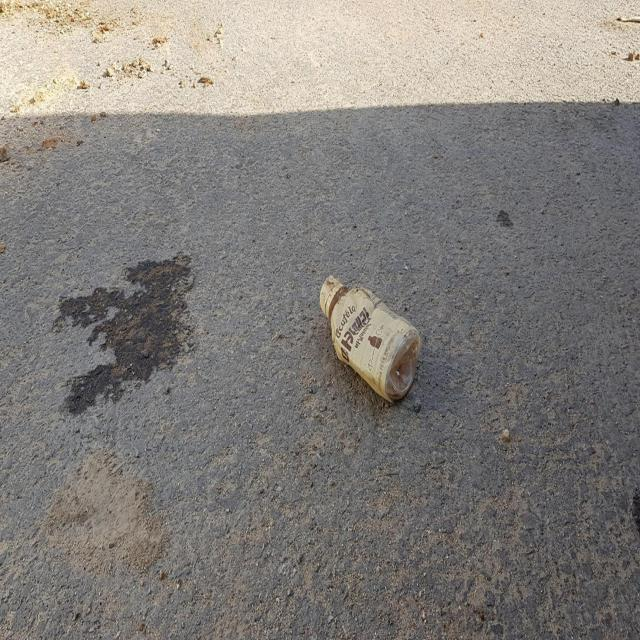plastic: (320, 275, 421, 400)
